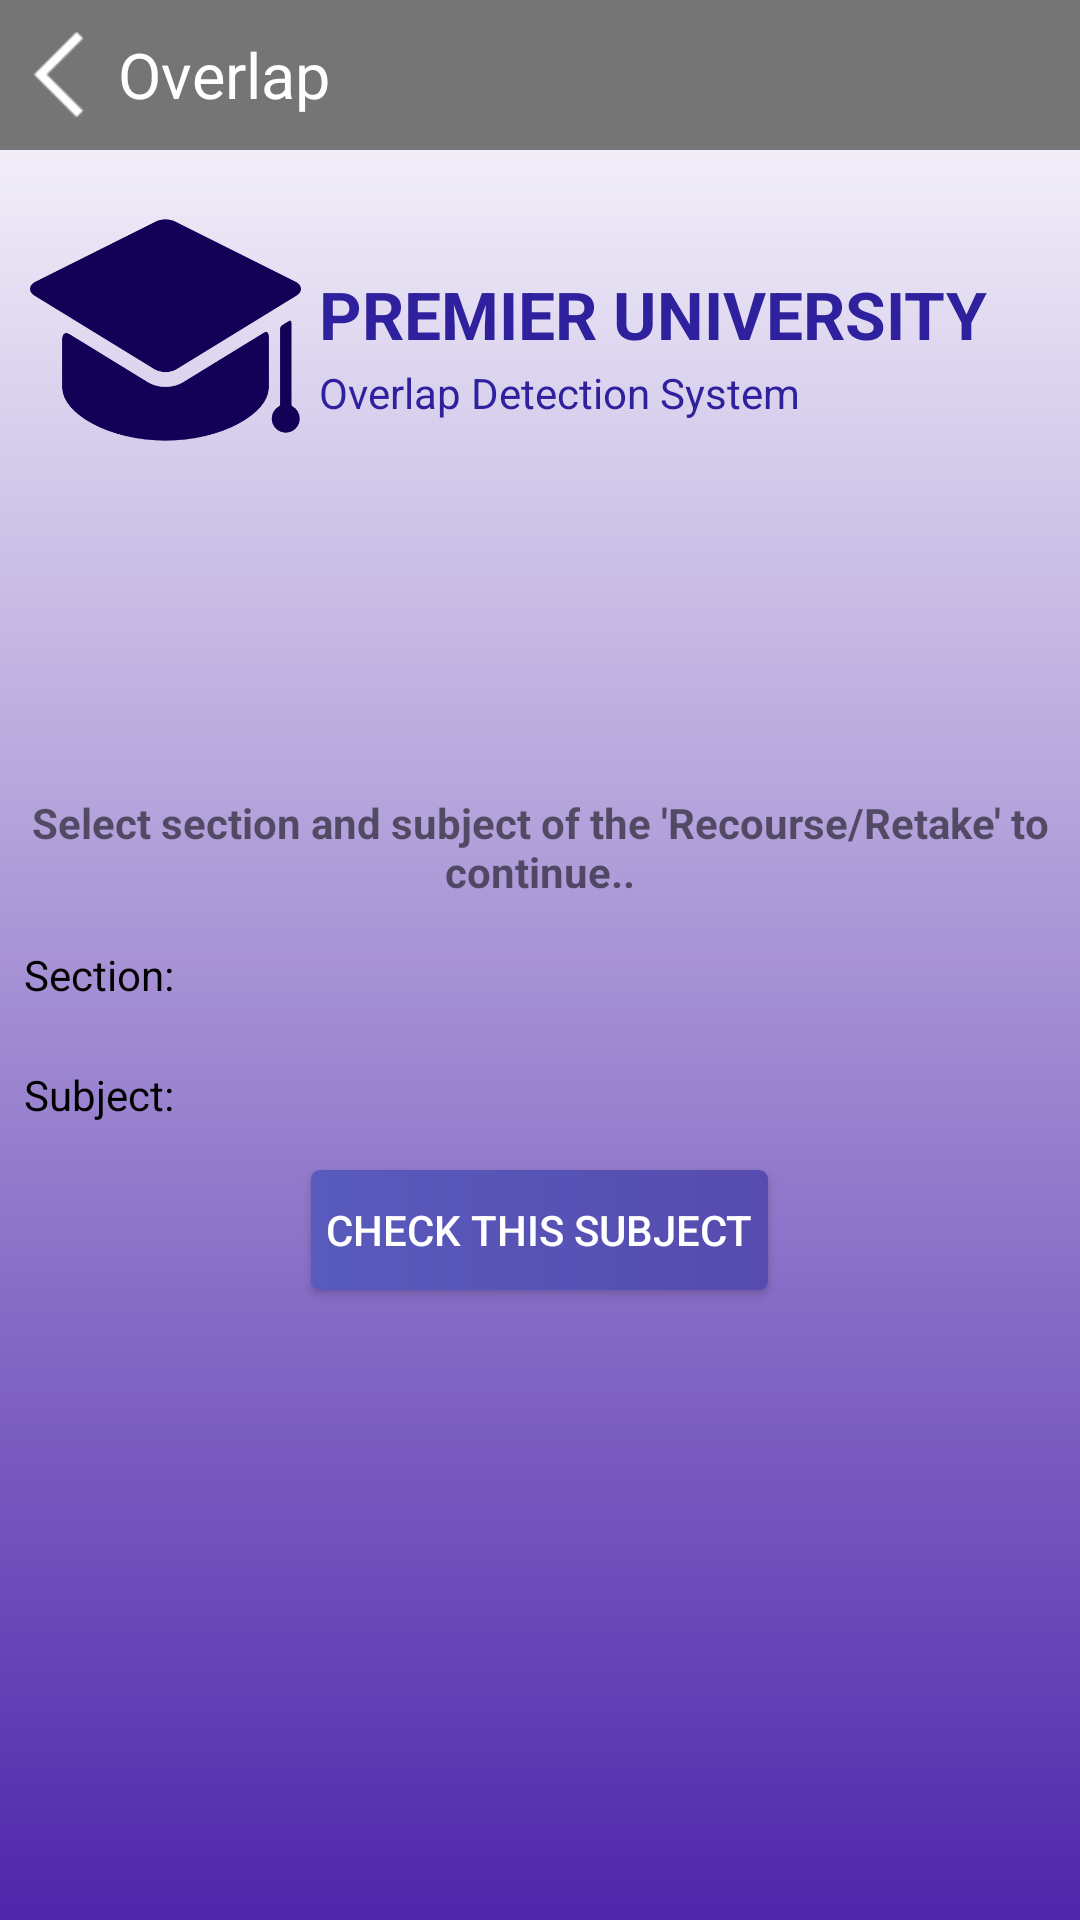

Screen size 1080x1920. Icon name, then its center in pixels as point (x, y):
back: point (58, 74)
